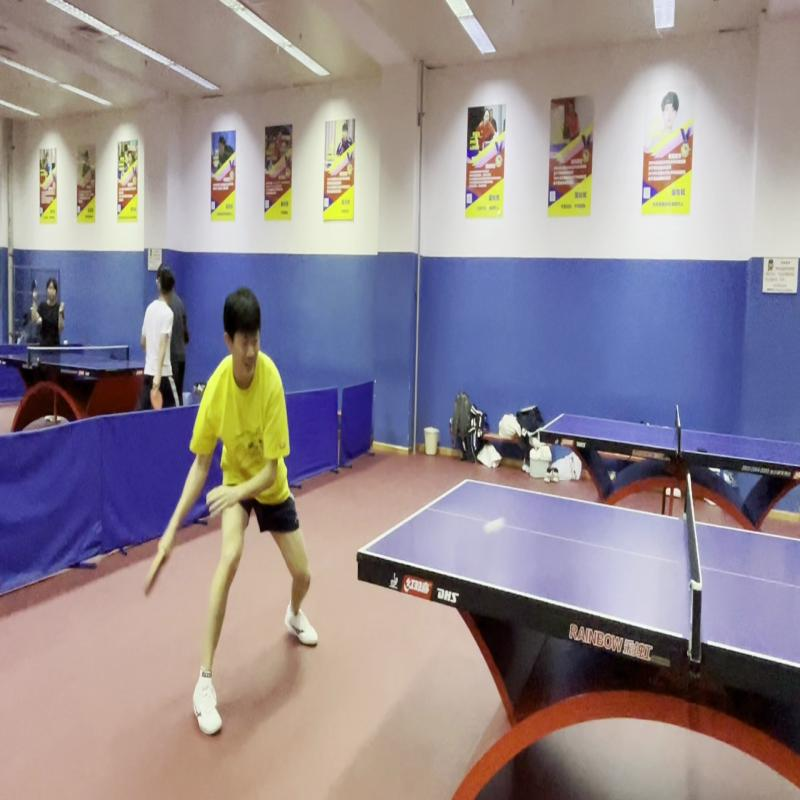bats: (140, 547, 174, 603)
